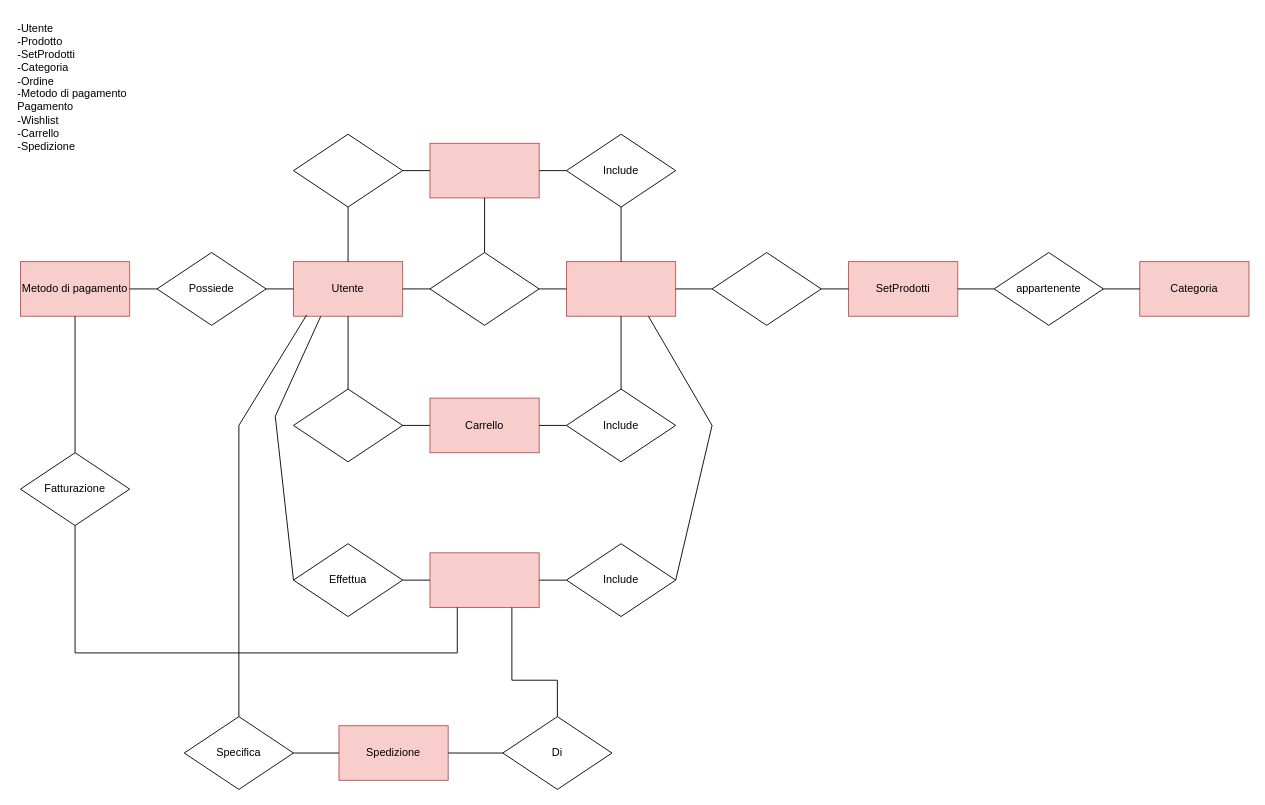
This 1265x805 diagram has some shape labels left out. Each missing label, with the centre of its shape:
Crea: (348,170)
Guarda: (484,288)
incluso in: (766,288)
Ordine: (484,579)
Prodotto: (621,288)
Usa: (348,425)
Wishlist: (484,170)
